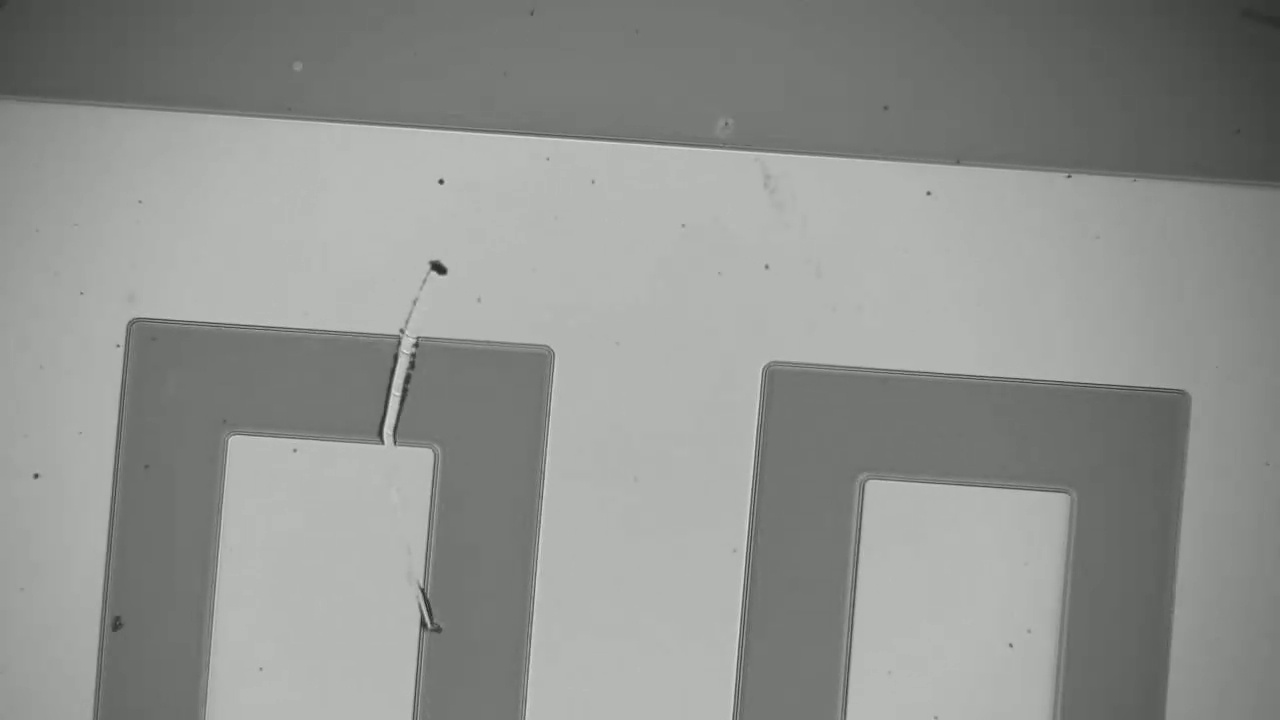Short_circuit: (356, 303, 435, 456)
